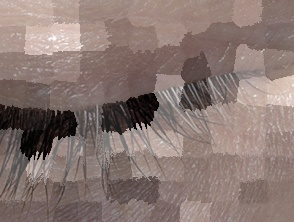vitiligo: (71, 33, 285, 181)
